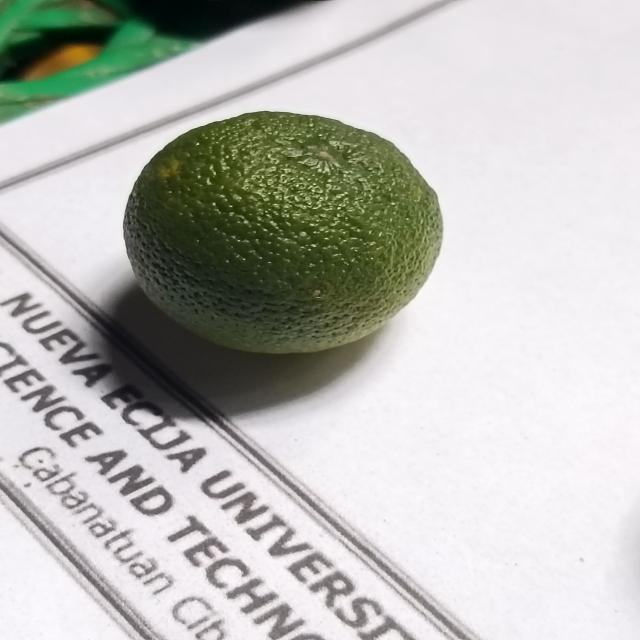heathy: (119, 107, 447, 355)
